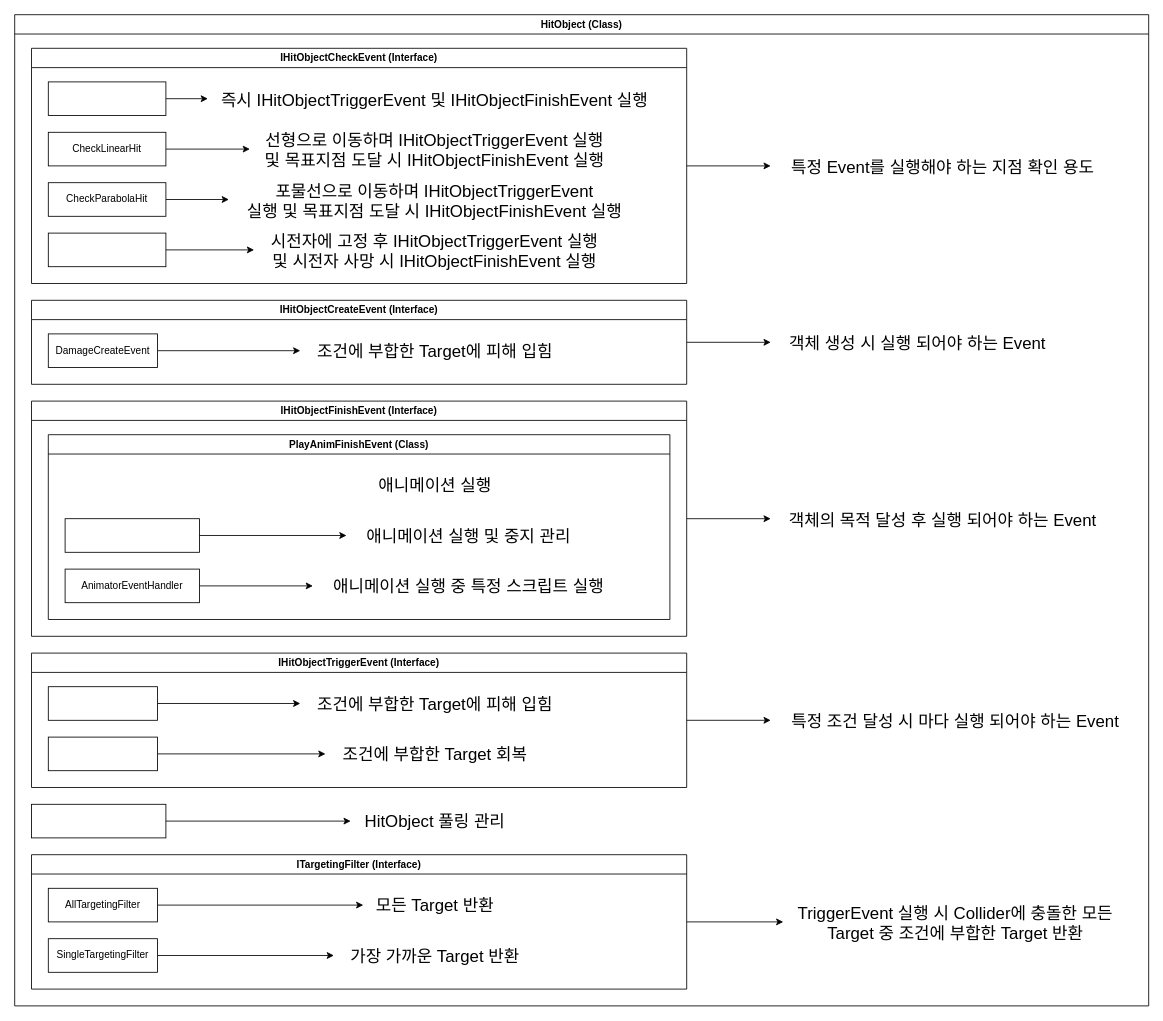
Some shapes in this 1163 by 1021 pixel diagram are drawn without their labels. The centre of each missing label's shape, as x and y in pixels:
"AnimationEventController" goes at point 132,535.
"CheckJustHit" goes at point 106,98.
"CheckTrackingCaster" goes at point 106,249.
"DamageTriggerEvent" goes at point 102,703.
"HealTriggerEvent" goes at point 102,753.
"HitObjectManager" goes at point 98,820.
